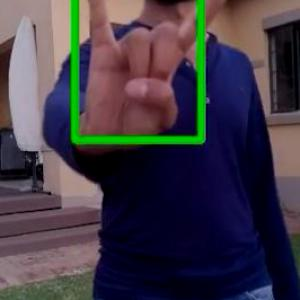takeoff-hand: (73, 0, 249, 145)
